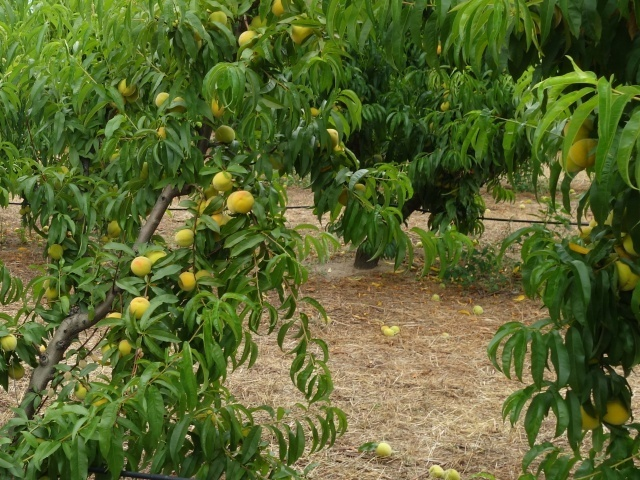peach: (599, 390, 634, 431), (565, 136, 600, 173), (608, 257, 639, 295), (575, 403, 607, 436), (223, 187, 257, 218), (124, 294, 154, 324), (283, 16, 315, 44), (554, 150, 580, 182), (128, 254, 156, 281), (234, 25, 261, 53), (208, 165, 234, 193), (175, 269, 200, 297), (173, 226, 198, 252), (212, 122, 236, 146), (207, 8, 231, 31), (115, 76, 139, 98), (323, 124, 343, 149), (1, 331, 23, 353), (152, 89, 173, 112), (6, 360, 27, 382), (44, 242, 67, 262), (114, 337, 134, 358), (41, 283, 62, 303), (104, 218, 123, 240), (70, 385, 92, 403)
